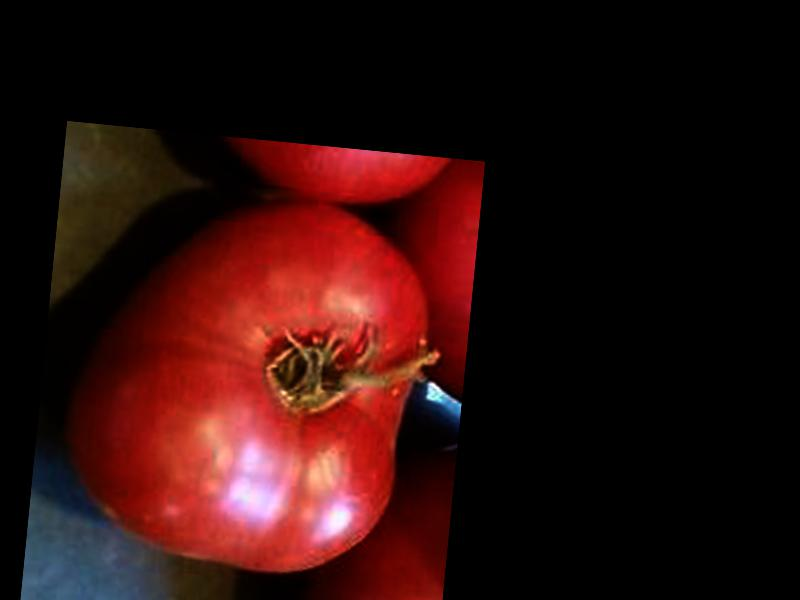Tomato: (55, 182, 438, 586)
